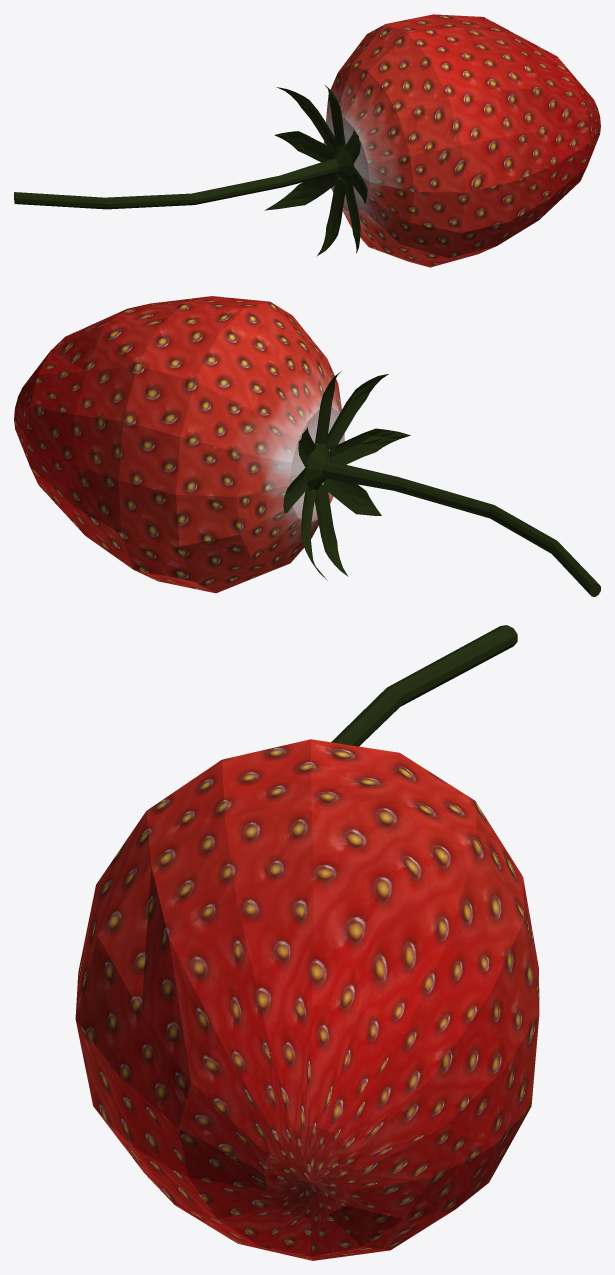
The model's file is StrawberryFruit.obj.
3 renders of one model, top to bottom at view 1: azimuth 30°, elevation 25°; view 2: azimuth 150°, elevation 25°; view 3: azimuth 270°, elevation 25°, orthographic. The views are drawn at different scales.
Parts seen in each view (by area): view 1: fruit, sepal; view 2: fruit, sepal; view 3: fruit, sepal.
Part boxes in pixels (<box>): fruit: <box>323,14,600,267</box>; sepal: <box>14,85,367,255</box>; fruit: <box>14,296,344,593</box>; sepal: <box>283,371,600,596</box>; fruit: <box>75,739,539,1260</box>; sepal: <box>331,625,517,746</box>.
Bounding box in the file's own units: 2.13 × 0.8705 × 0.8022.
